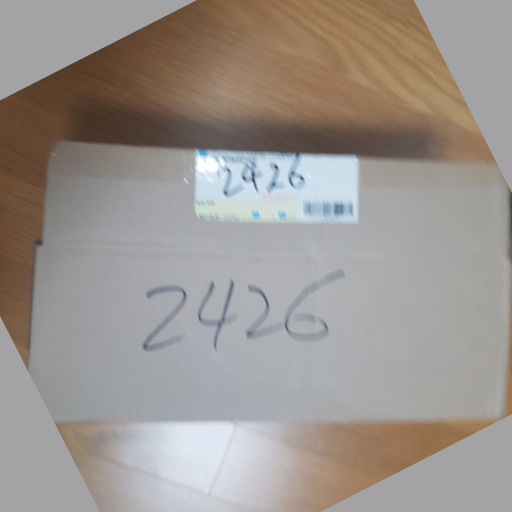Paper_0: (25, 140, 512, 435)
